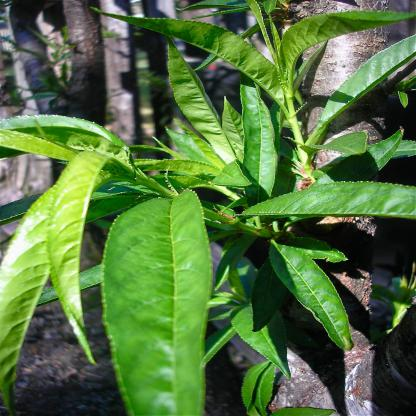peach leaf: (99, 192, 213, 416), (84, 6, 293, 112), (42, 151, 131, 367), (281, 7, 415, 93), (163, 34, 238, 167), (268, 235, 351, 349), (241, 55, 279, 205)
